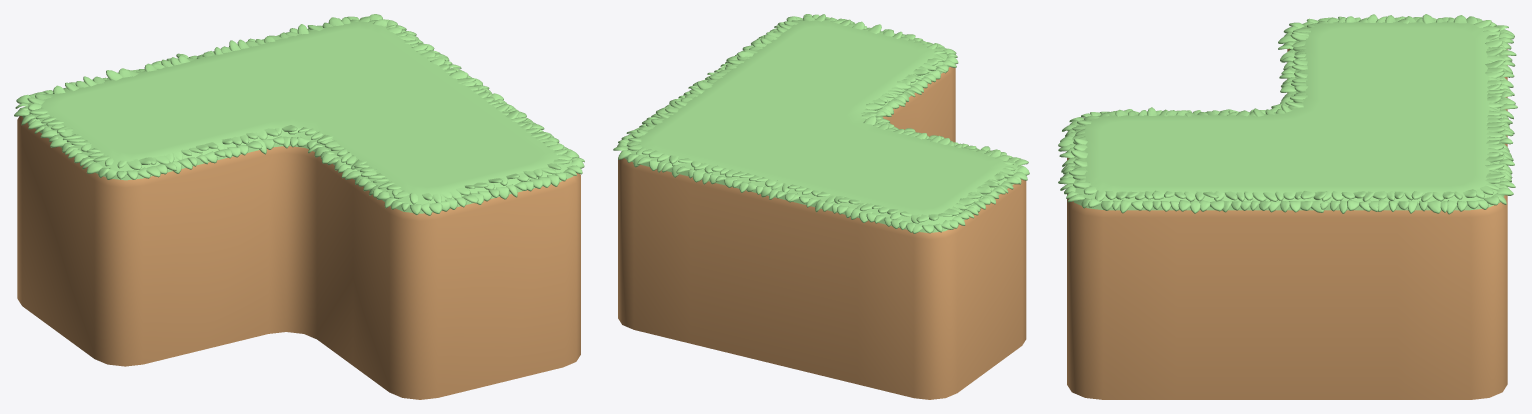
Rendered from Cliffs_4x4_L.fbx.
3 renders of one model, left to right at view 1: azimuth 30°, elevation 25°; view 2: azimuth 150°, elevation 25°; view 3: azimuth 270°, elevation 25°, orthographic. The views are drawn at different scales.
Visible parts, largest first — view 1: 4x4_L_Cliff, 4x4_L_Blades; view 2: 4x4_L_Cliff, 4x4_L_Blades; view 3: 4x4_L_Cliff, 4x4_L_Blades.
Part boxes in pixels (<box>): 4x4_L_Cliff: <box>17,20,580,399</box>; 4x4_L_Blades: <box>14,14,584,215</box>; 4x4_L_Cliff: <box>618,18,1026,399</box>; 4x4_L_Blades: <box>613,14,1029,233</box>; 4x4_L_Cliff: <box>1067,21,1507,399</box>; 4x4_L_Blades: <box>1058,14,1517,214</box>.
Bounding box in the file's own units: 416 × 204 × 418.
